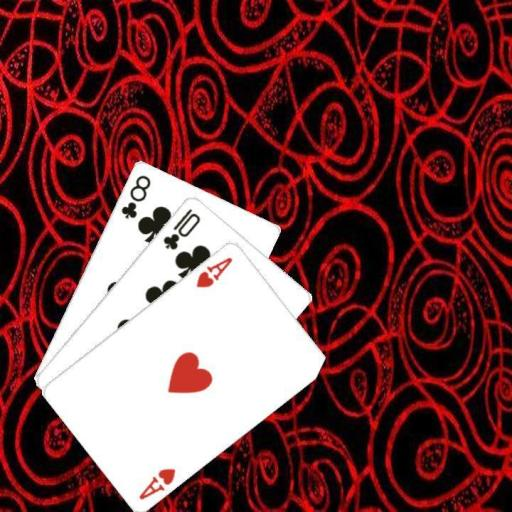card-corner: (159, 205, 202, 252), (118, 171, 152, 220), (135, 464, 177, 502), (193, 253, 234, 290)
